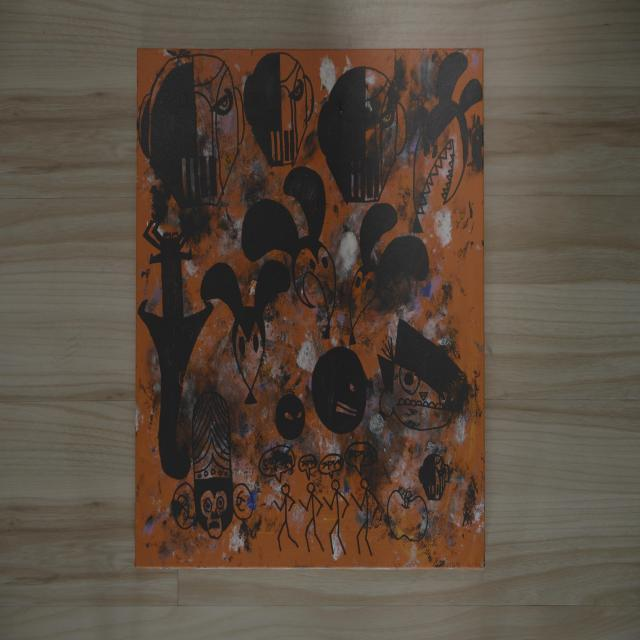painting: (135, 49, 484, 568)
